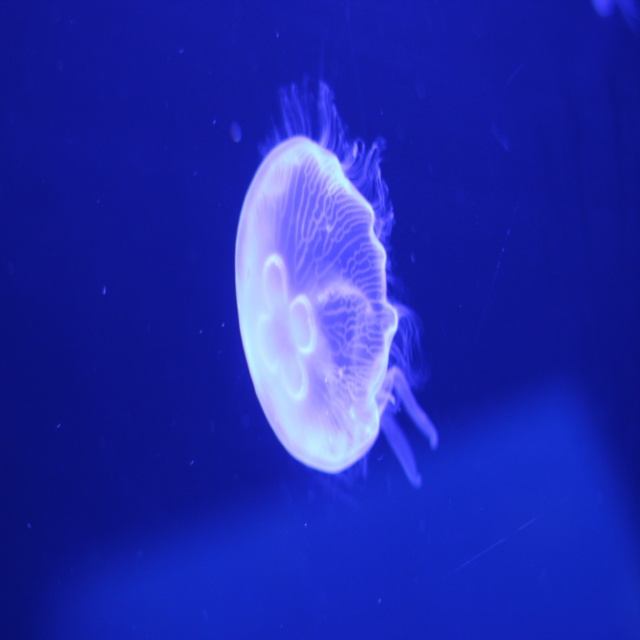Jellyfish: (234, 77, 432, 486)
